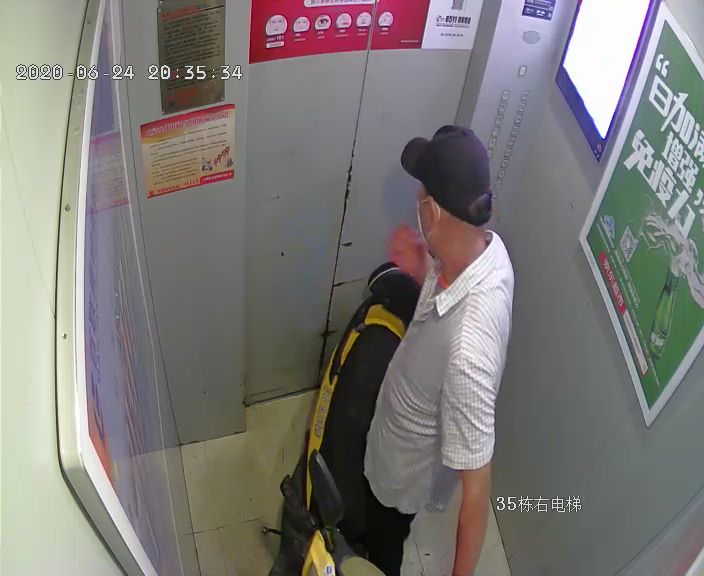Electric-bicycle: (263, 257, 428, 576)
